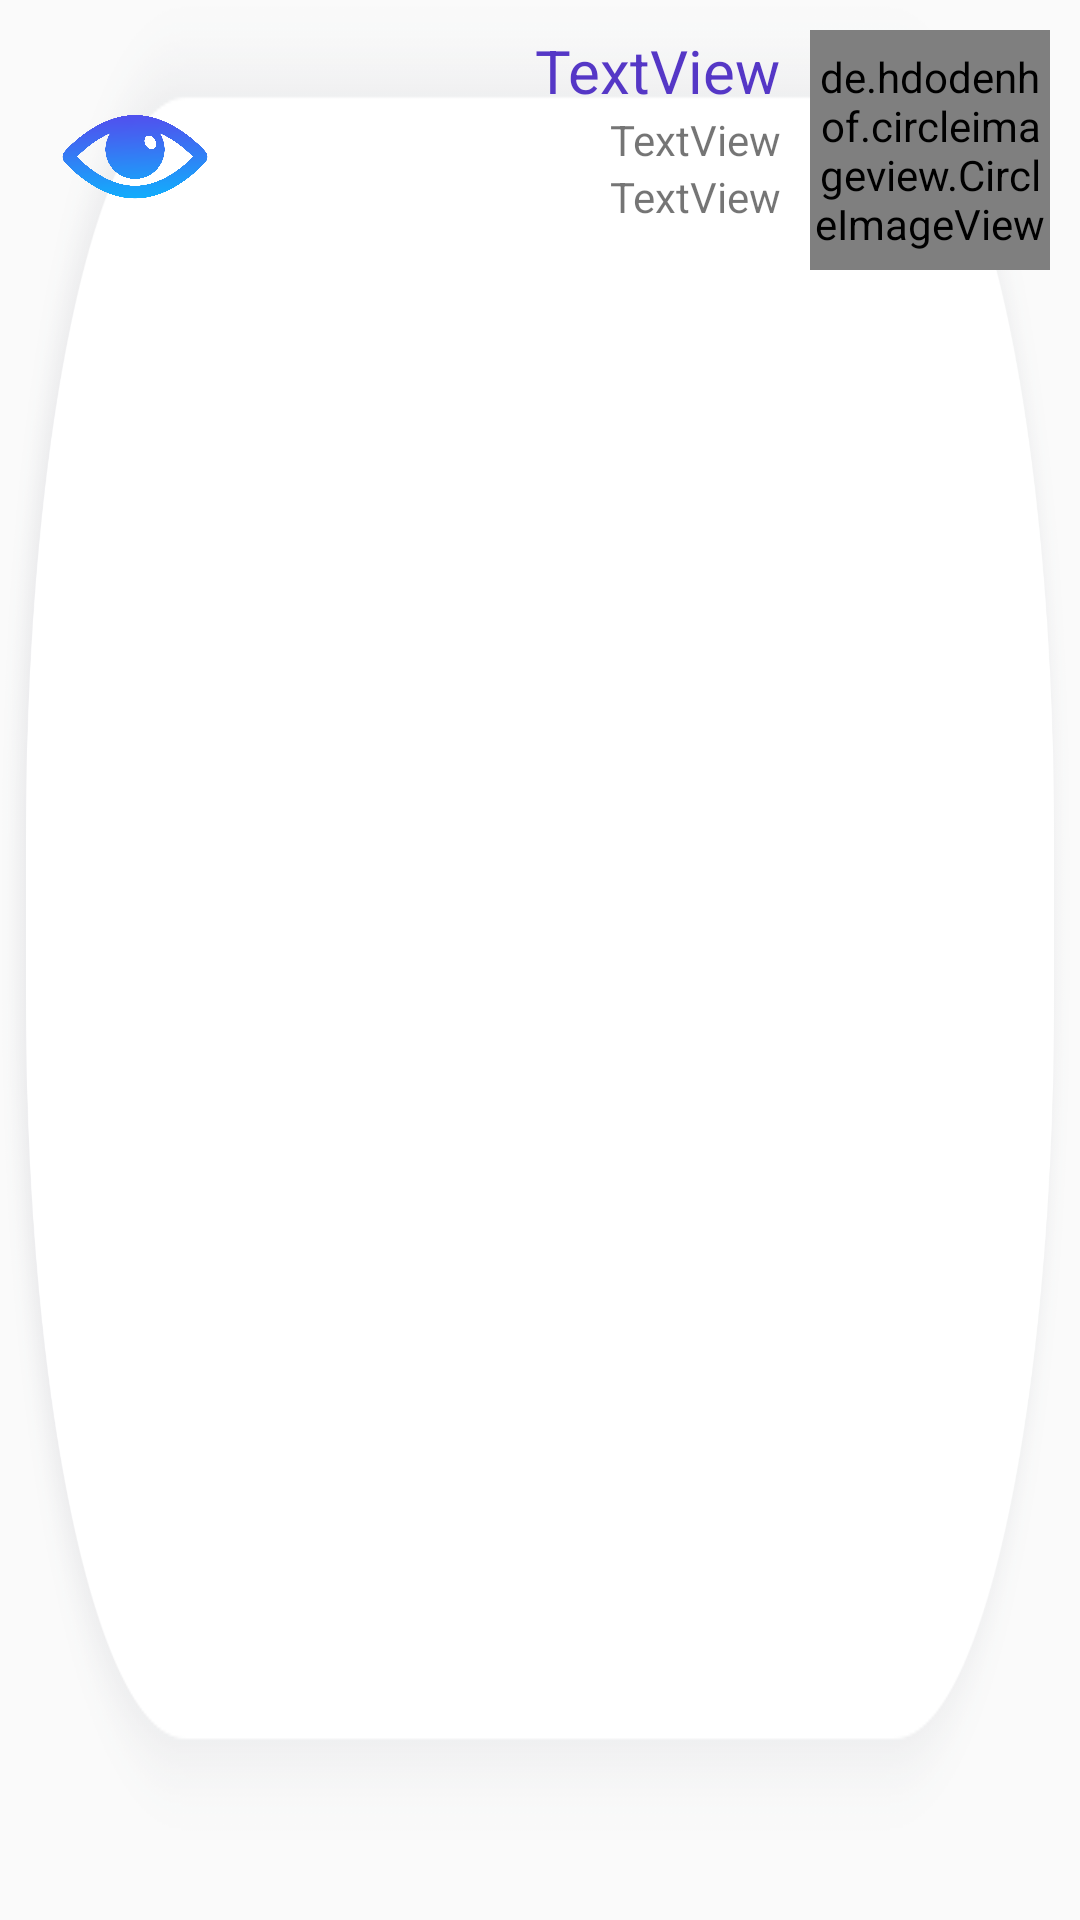

Icons on this 1080 x 1920 Android screen, each with its box as (x1, y1, x2, y2):
ojito: (62, 115, 208, 199)
